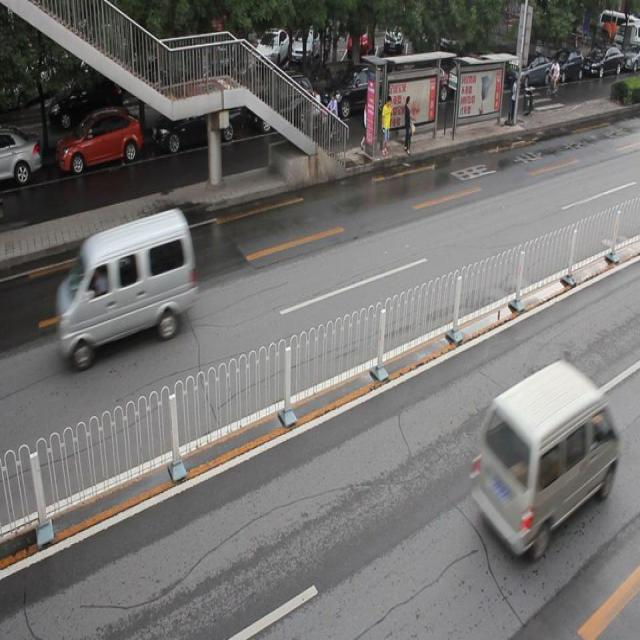car: (57, 108, 143, 172), (154, 98, 242, 149), (244, 80, 317, 136), (323, 68, 395, 122), (0, 127, 44, 187)
truck: (470, 357, 618, 559), (55, 208, 196, 369)
